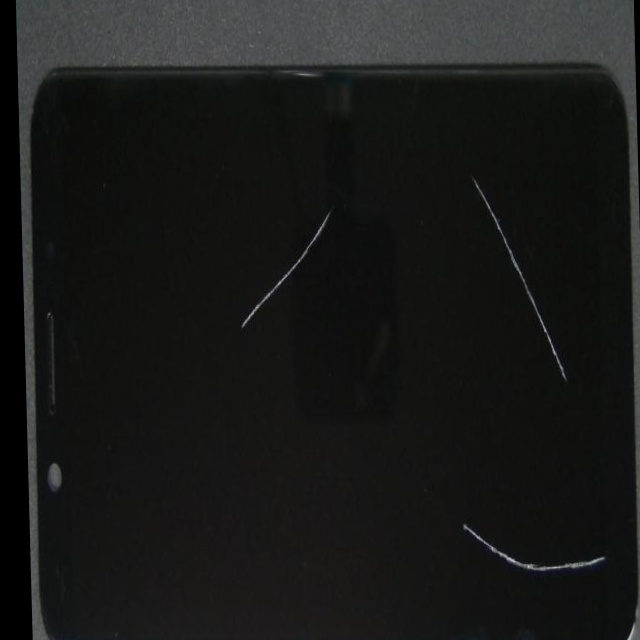scratch: (397, 283, 640, 640), (223, 20, 435, 362), (355, 288, 640, 459)
